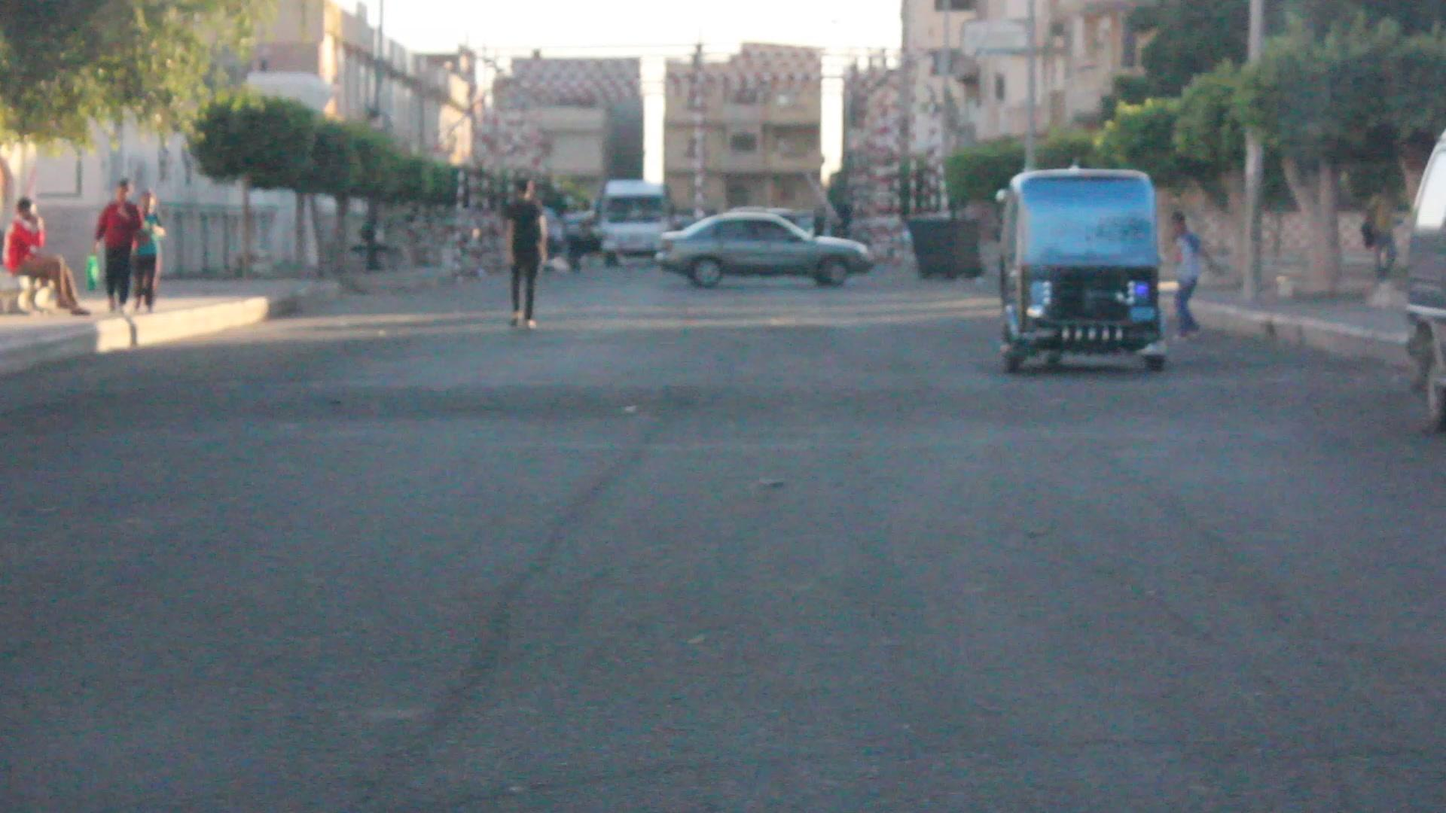Bump: (30, 371, 1446, 442)
